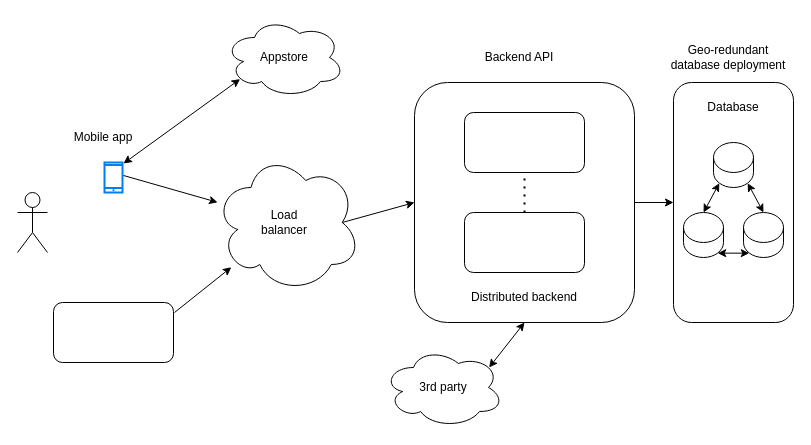
The diagram is 811 pixels wide and 445 high, and some of its shapes have lost their labels. The shapes that lost their labels are listed below. From the top down, each one's centre as x and y in pixels, then its label:
At point (32, 222): "User".
At point (113, 332): "Website frontend".
